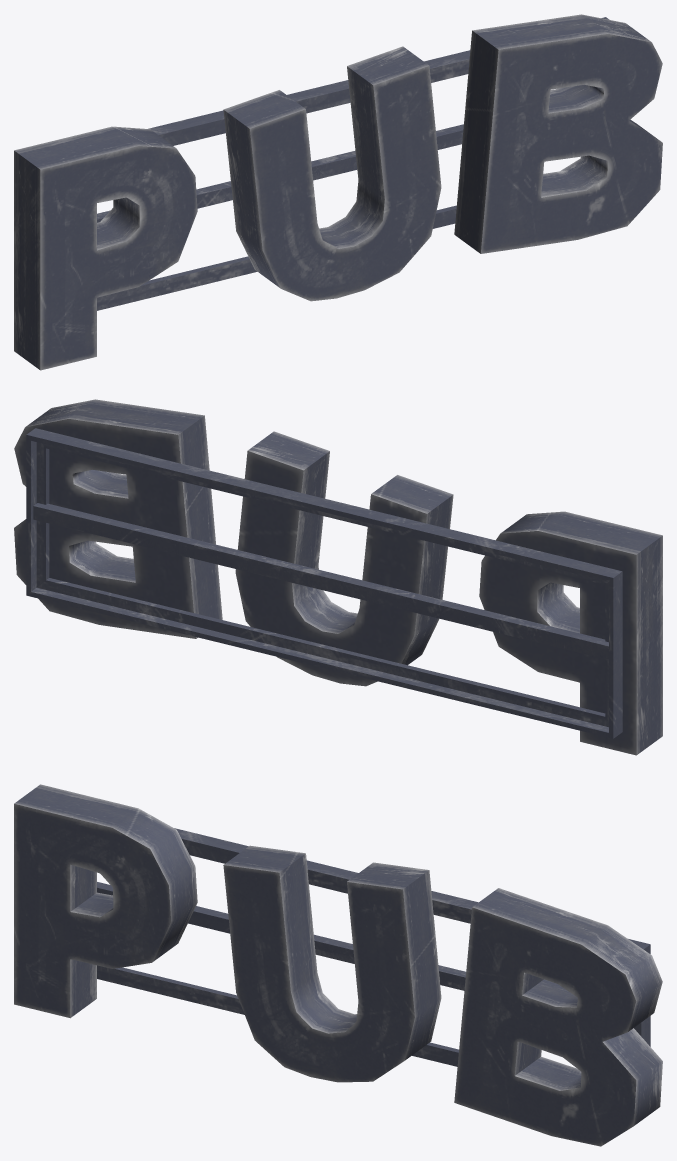
The model's file is Pub1_LOD1.fbx.
The picture shows the model from 3 angles, top to bottom: view 1: azimuth 30°, elevation 25°; view 2: azimuth 150°, elevation 25°; view 3: azimuth 330°, elevation 25°; orthographic projection.
Visible parts, largest first — view 1: polySurface258; view 2: polySurface258; view 3: polySurface258.
Part boxes in pixels (<box>): polySurface258: <box>14,14,662,370</box>; polySurface258: <box>14,399,662,755</box>; polySurface258: <box>14,784,662,1146</box>.
Bounding box in the file's own units: 271 × 87.4 × 26.8.
1 material, 1 textured.
